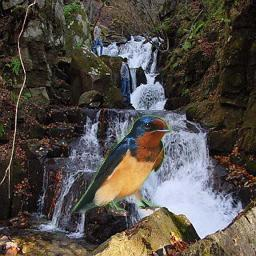Swallow: (71, 115, 172, 216)
